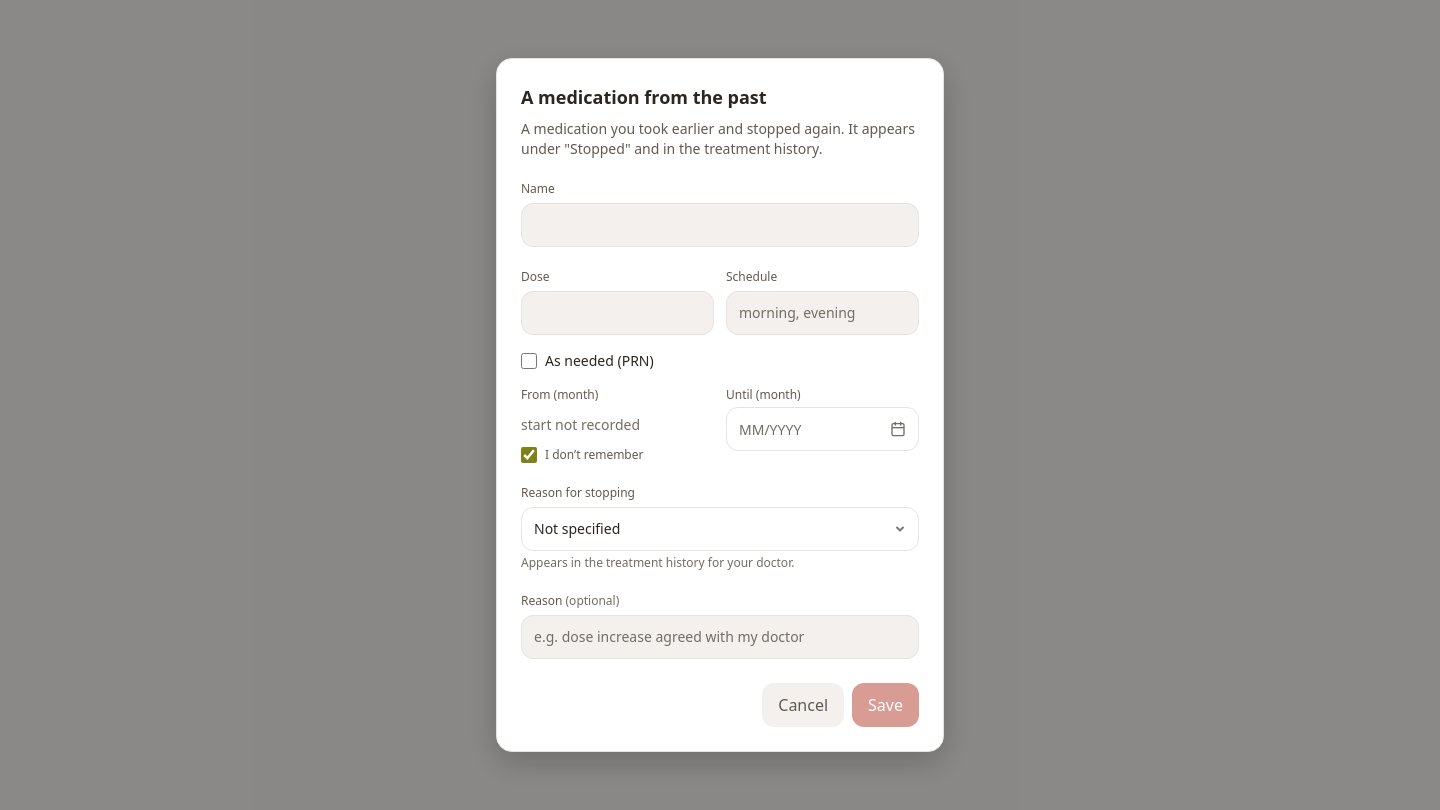
it: a medication from the past › needs an end — a medication from the past has one by definition
Type "Levetiracetam" into the field with test id "history-name". click: (720, 225)
box: [521, 203, 919, 247]
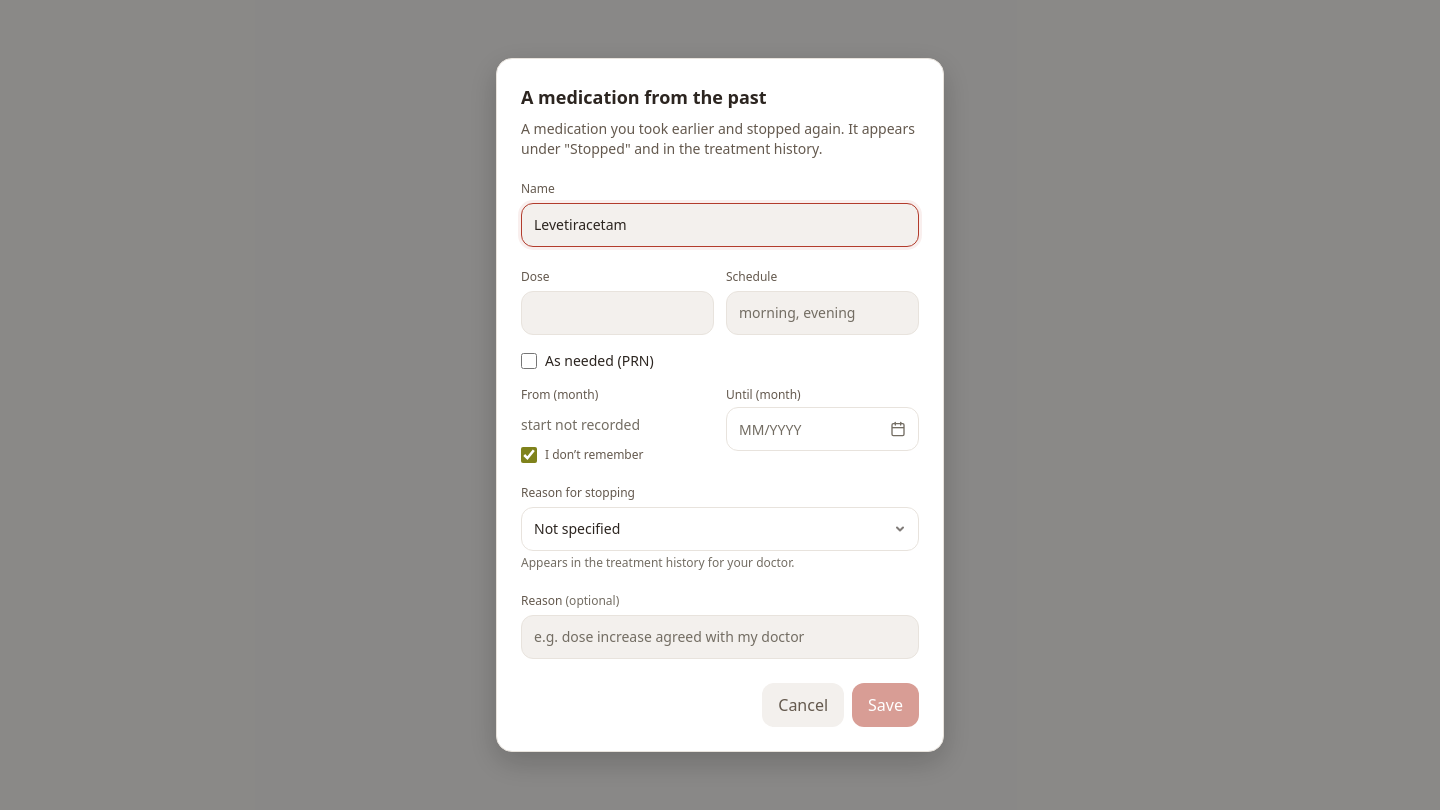
Type "1000 mg" into the field with test id "history-dose". click: (618, 313)
box: [521, 291, 714, 335]
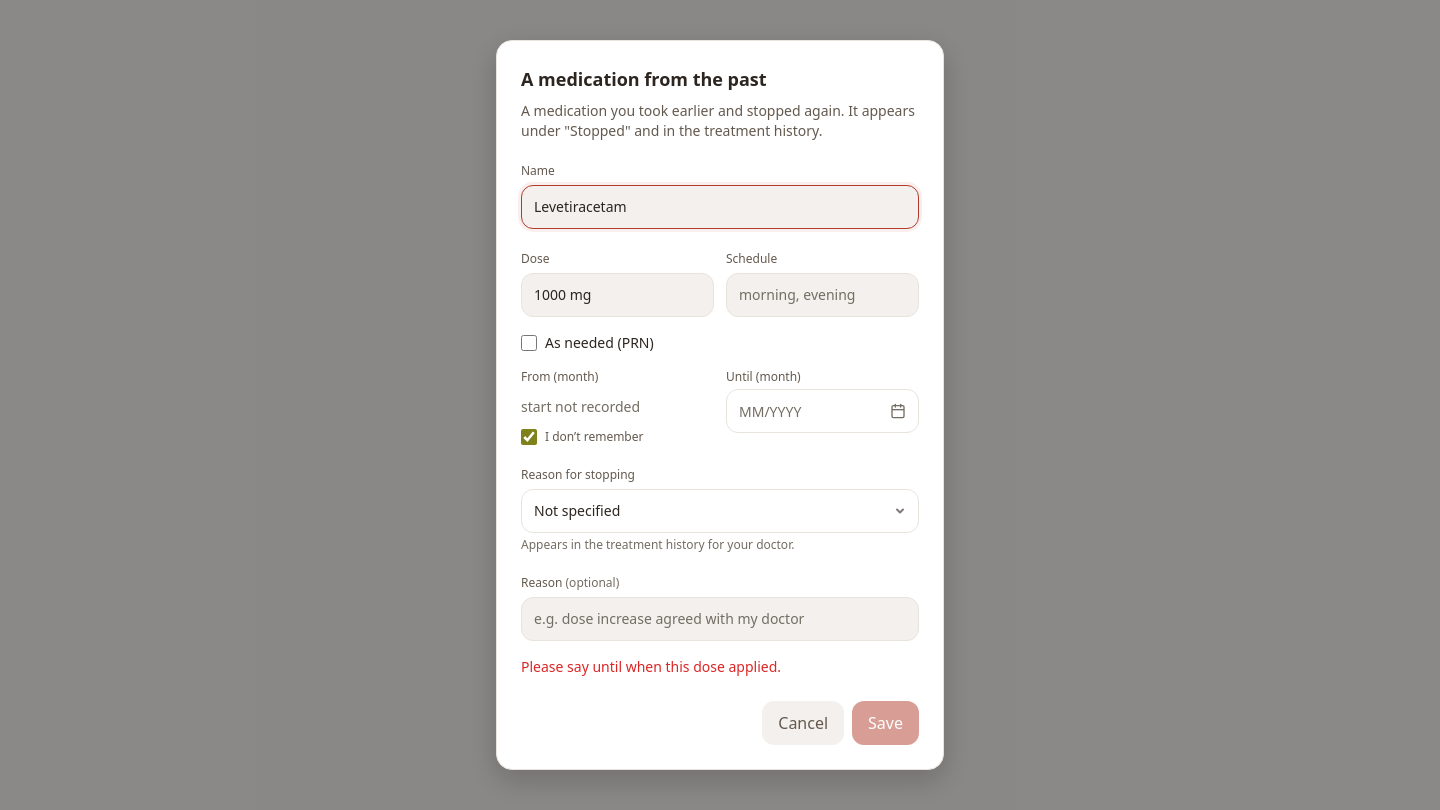
Expected: the button with test id "history-apply" is disabled, [852, 701, 919, 745]
Expected: the message "Please say until when this dose applied." is shown, [521, 657, 781, 676]
